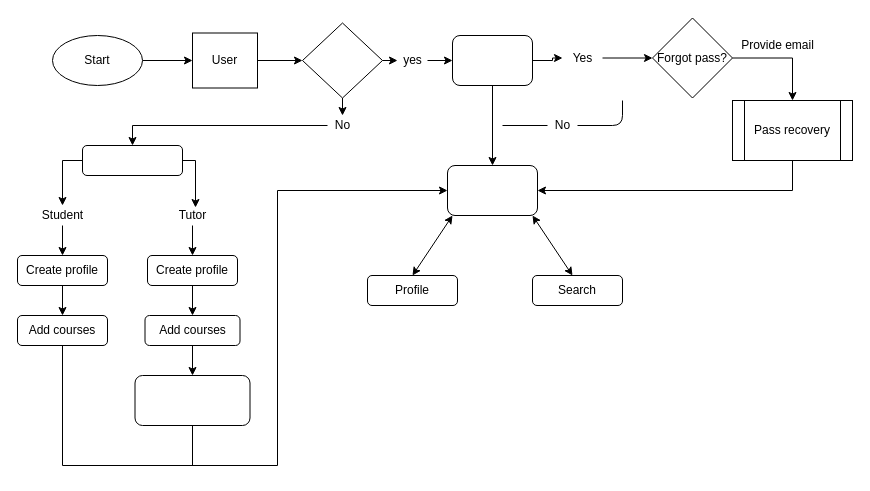
This 870x491 diagram has some shape labels left out. Here are the shapes that lost their labels. From the top down, the centre of each, then its label:
the point at 342,60: Signed up?
the point at 492,60: Login
the point at 132,160: Sign Up
the point at 492,190: Homepage
the point at 192,400: Availability/timeslots
